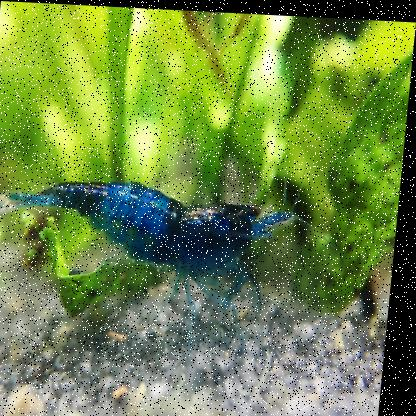shrimp: (0, 171, 313, 323)
